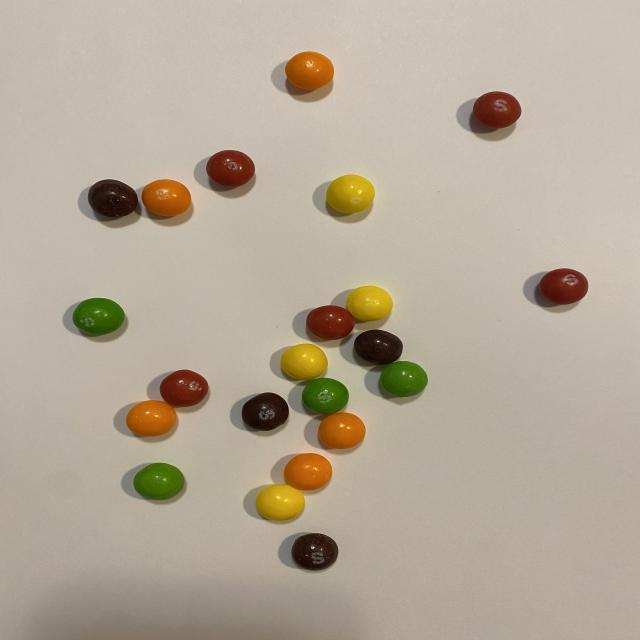smartie: (132, 463, 184, 501), (326, 175, 376, 214), (72, 298, 124, 335), (87, 179, 137, 217), (285, 51, 334, 89), (473, 90, 522, 128), (255, 485, 305, 522), (539, 268, 589, 305), (125, 401, 176, 437), (141, 179, 190, 216), (283, 454, 332, 491), (205, 150, 254, 187), (353, 329, 403, 365), (241, 393, 288, 431), (291, 534, 338, 571), (301, 378, 348, 415), (280, 344, 328, 380), (380, 361, 428, 397), (318, 413, 365, 449), (306, 305, 354, 340), (346, 286, 393, 321)
